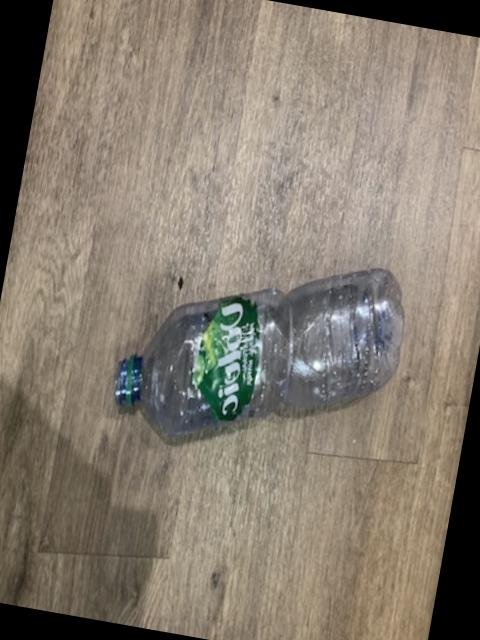plastic: (113, 271, 401, 441)
